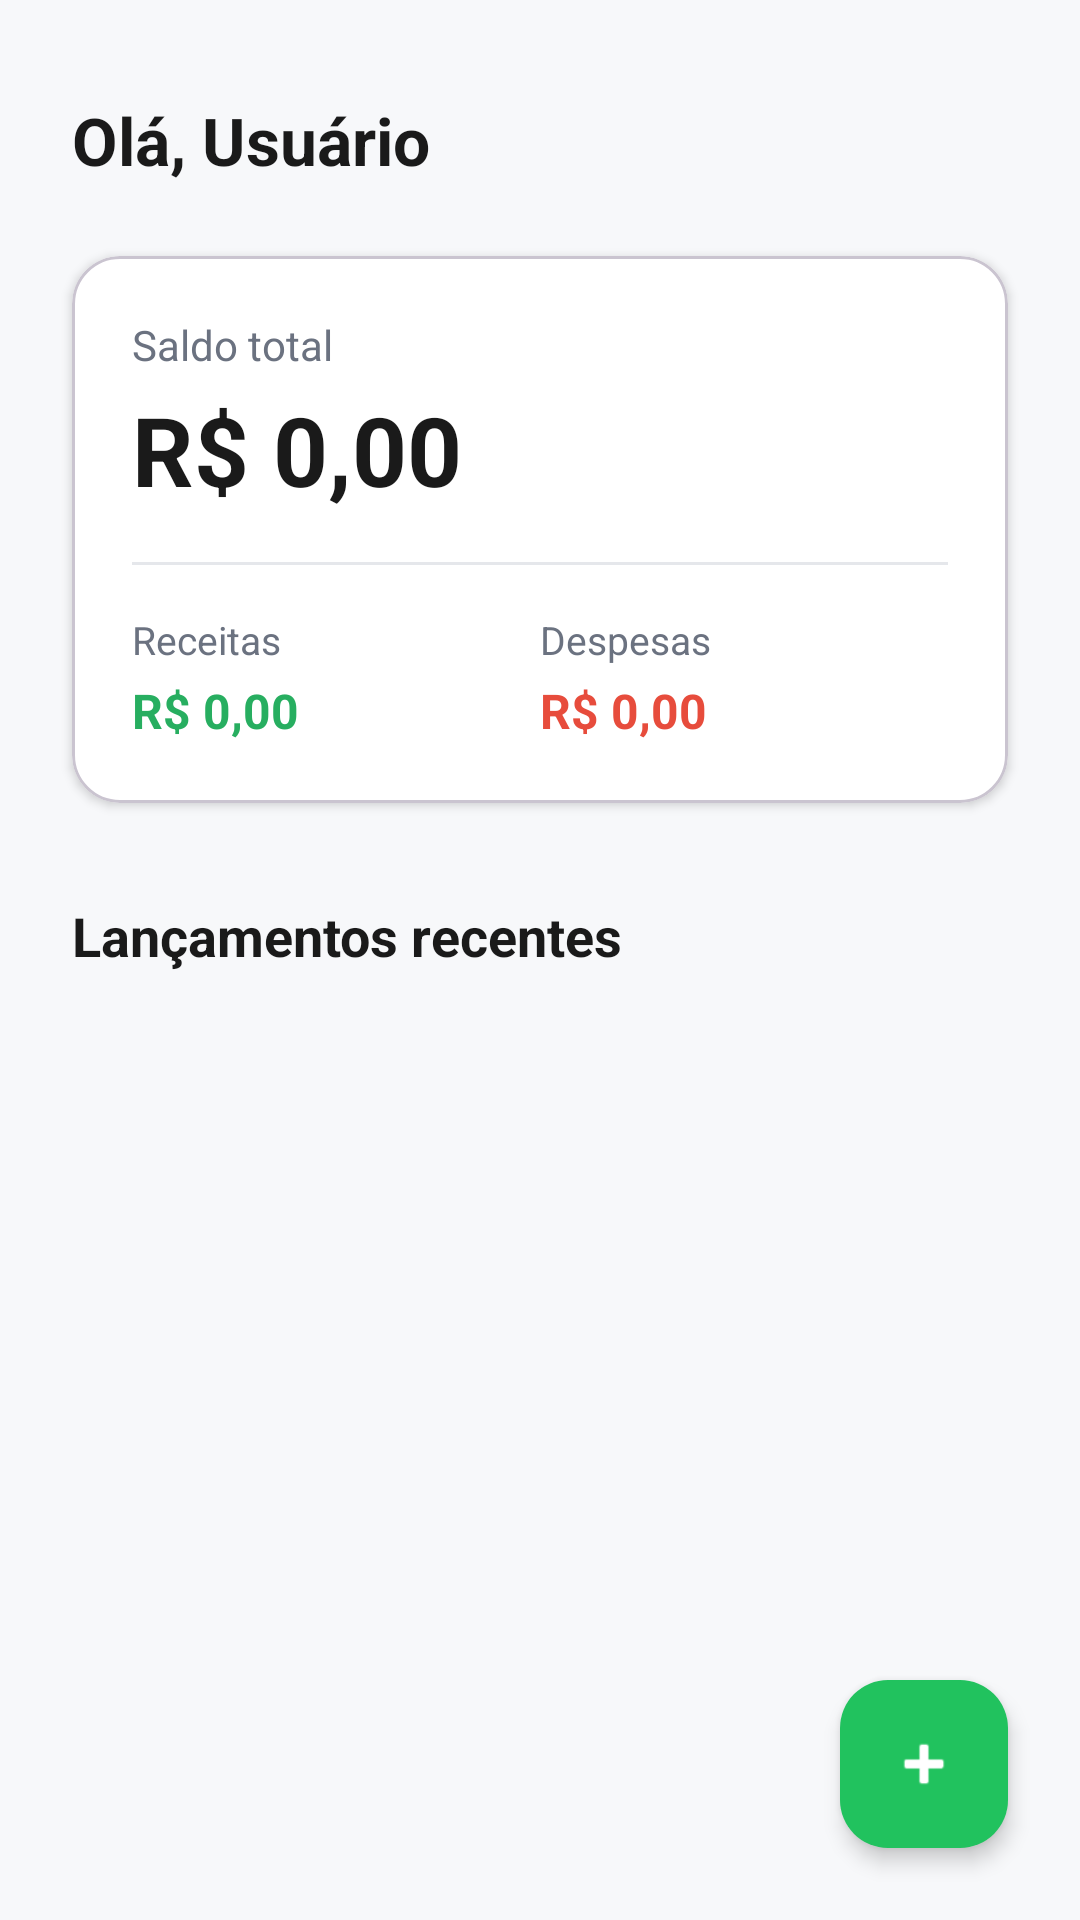

Named icons in this screenshot (1080px x 1920px) and their centers, point (x, y):
Adicionar lançamento: point (924, 1764)
